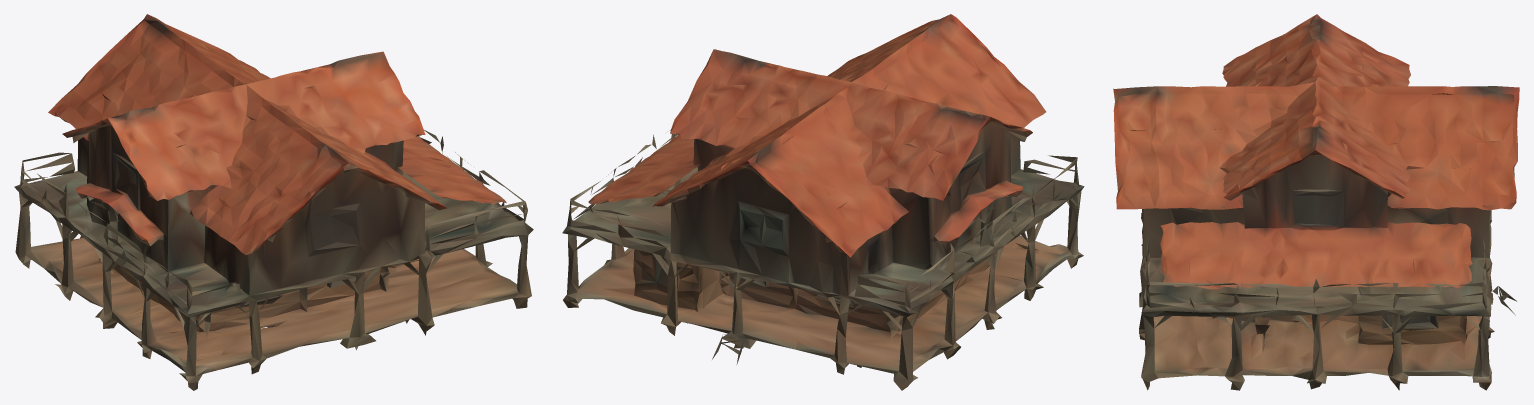
The model's file is bq_rural_house.vc.glb.
3 views of the same model, side by side, from view 1: azimuth 30°, elevation 25°; view 2: azimuth 150°, elevation 25°; view 3: azimuth 270°, elevation 25° (orthographic).
Visible parts, largest first — view 1: bq_rural_house; view 2: bq_rural_house; view 3: bq_rural_house.
Part boxes in pixels (bbox=[...]): bq_rural_house: bbox=[14, 14, 533, 390]; bq_rural_house: bbox=[562, 14, 1084, 390]; bq_rural_house: bbox=[1113, 14, 1519, 390].
Size of the model in its own units: 1.9 by 1.11 by 1.89.
